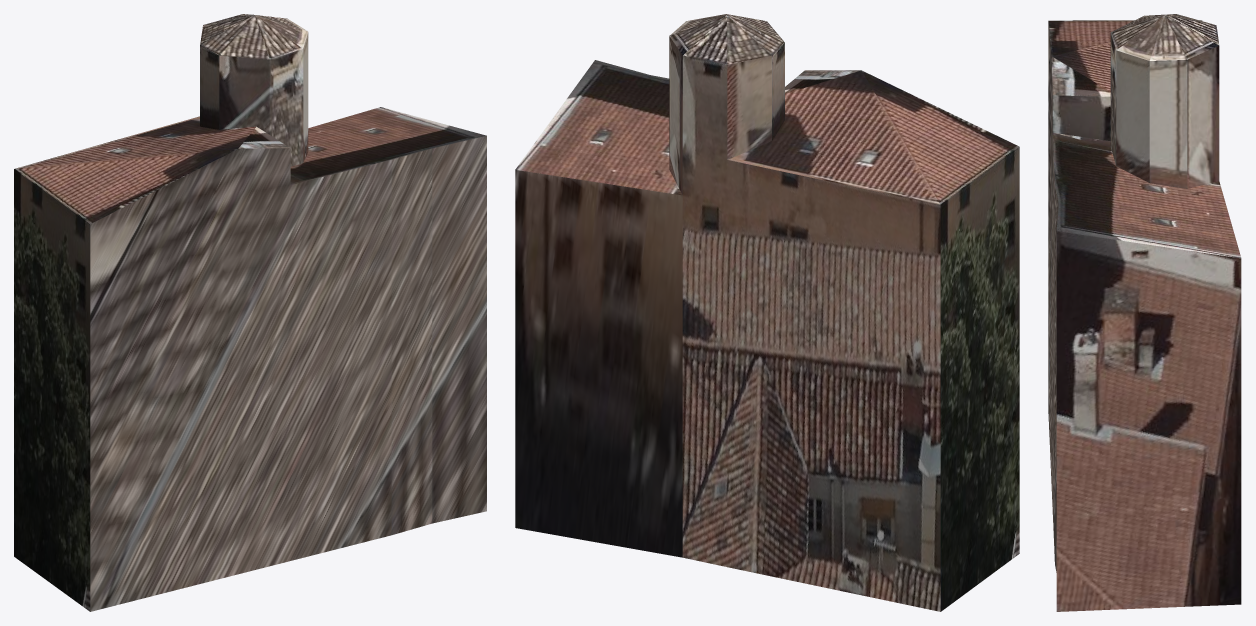
The picture shows the model from 3 angles, left to right: view 1: azimuth 30°, elevation 25°; view 2: azimuth 150°, elevation 25°; view 3: azimuth 270°, elevation 25°; orthographic projection. The views are drawn at different scales.
Parts seen in each view (by area): view 1: Z_UP; view 2: Z_UP; view 3: Z_UP.
Part boxes in pixels (bbox=[...]): Z_UP: bbox=[14, 14, 486, 611]; Z_UP: bbox=[515, 14, 1019, 611]; Z_UP: bbox=[1048, 14, 1241, 611].
Size of the model in its own units: 18.59 by 22.19 by 7.64.
Materials: 2 (1 with a texture image).
